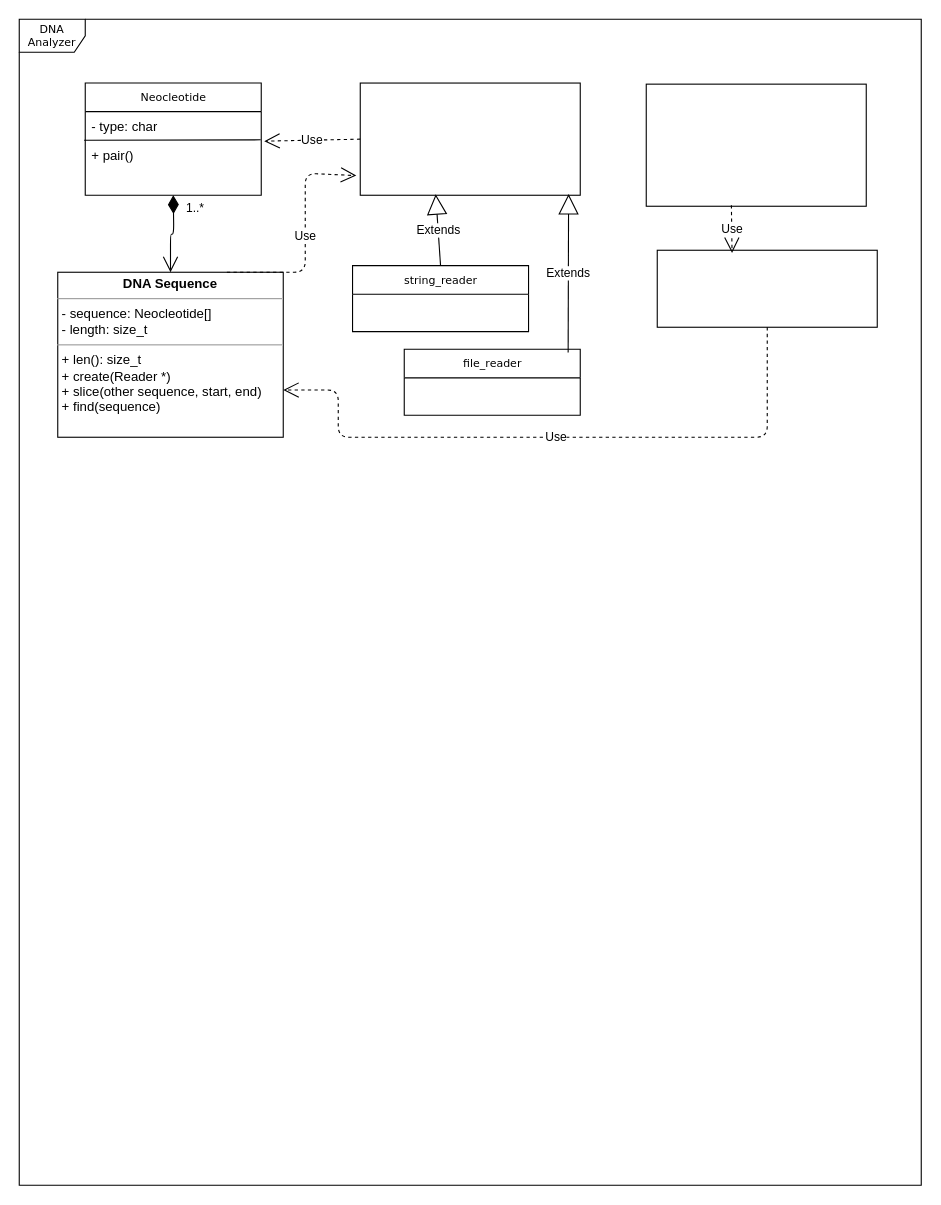
This 941x1205 diagram has some shape labels left out. Here are the shapes that lost their labels. From the top down, the centre of each, then its label:
pixel 469 138: <<Interface>> R eader + readNext(): Neocleotide + readNextCodon(): ?compressed?
pixel 755 144: <<Interface>> CLI + help() + quit() + list() + save()
pixel 766 288: <<Interface>> FileWrtier + Save(DNA sequence)
